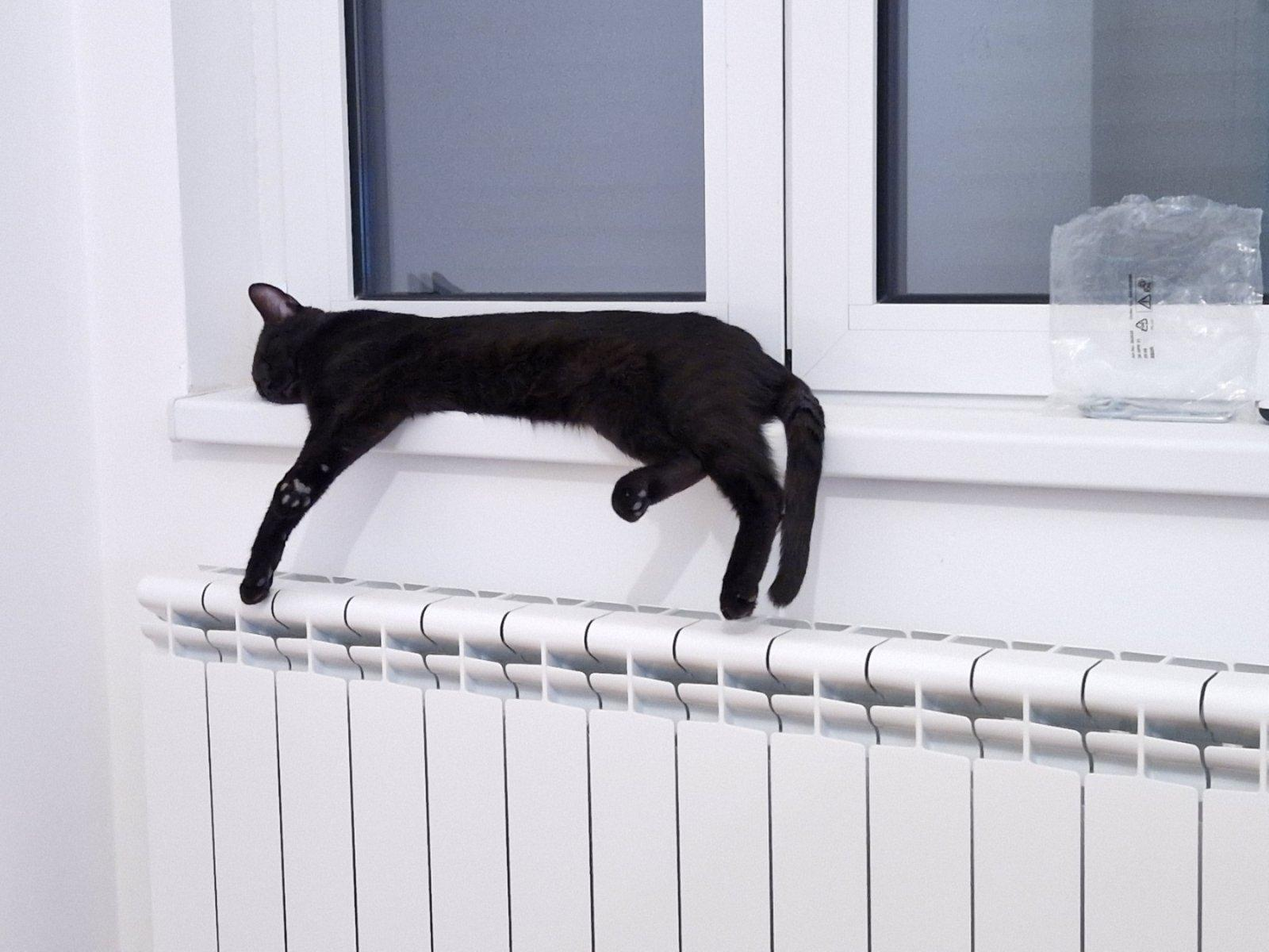macka: (242, 282, 827, 619)
